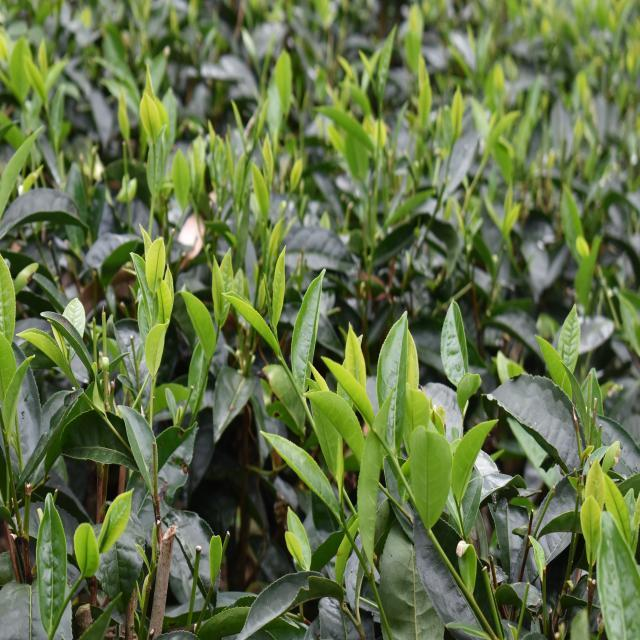Stem: (342, 526, 349, 534), (300, 396, 306, 403), (393, 457, 397, 463)
